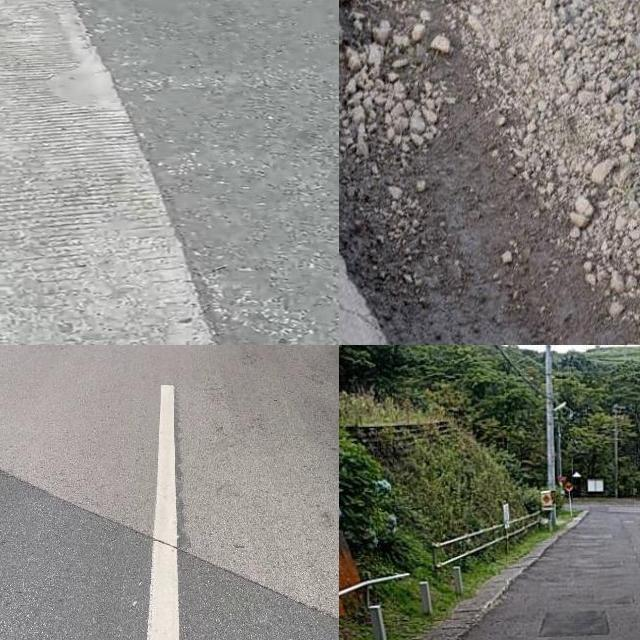Pinggir: (339, 0, 640, 345)
Sambungan: (0, 0, 217, 345), (0, 471, 339, 640), (544, 609, 614, 634)
